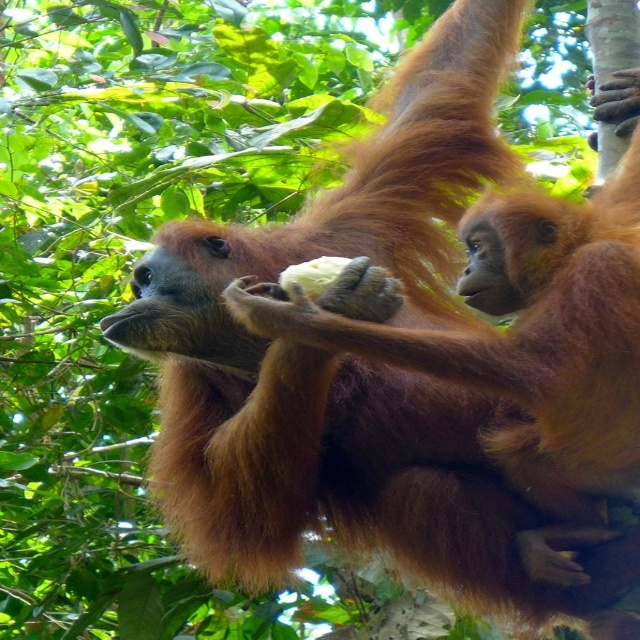Monkey: (97, 0, 639, 630)
